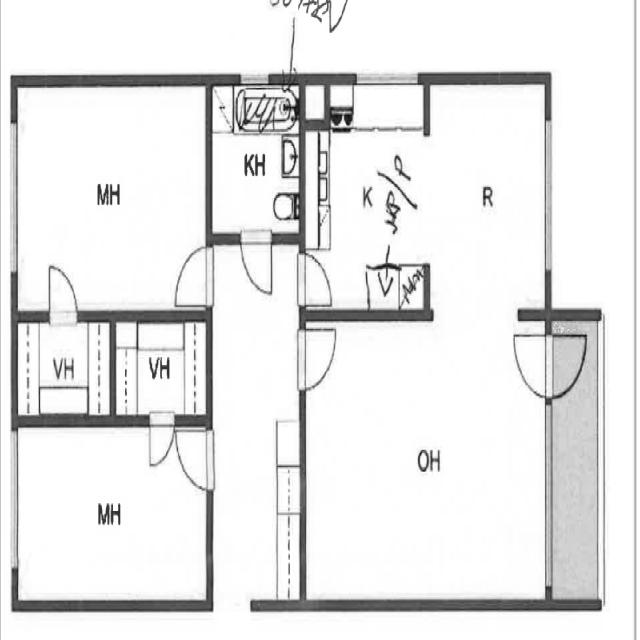door: (510, 327, 582, 402), (296, 321, 340, 393), (170, 241, 212, 312), (176, 422, 217, 493), (44, 260, 82, 325), (240, 231, 274, 301), (298, 251, 336, 309), (146, 410, 177, 472)
window: (536, 110, 558, 286), (3, 110, 25, 286), (538, 396, 556, 598), (7, 426, 24, 575), (350, 65, 423, 92), (237, 68, 278, 90)
zone: (301, 316, 553, 610), (14, 80, 211, 316), (13, 420, 210, 612), (425, 76, 550, 317), (305, 83, 431, 320), (207, 78, 302, 241), (112, 315, 210, 421), (13, 318, 112, 422), (511, 329, 588, 402)
